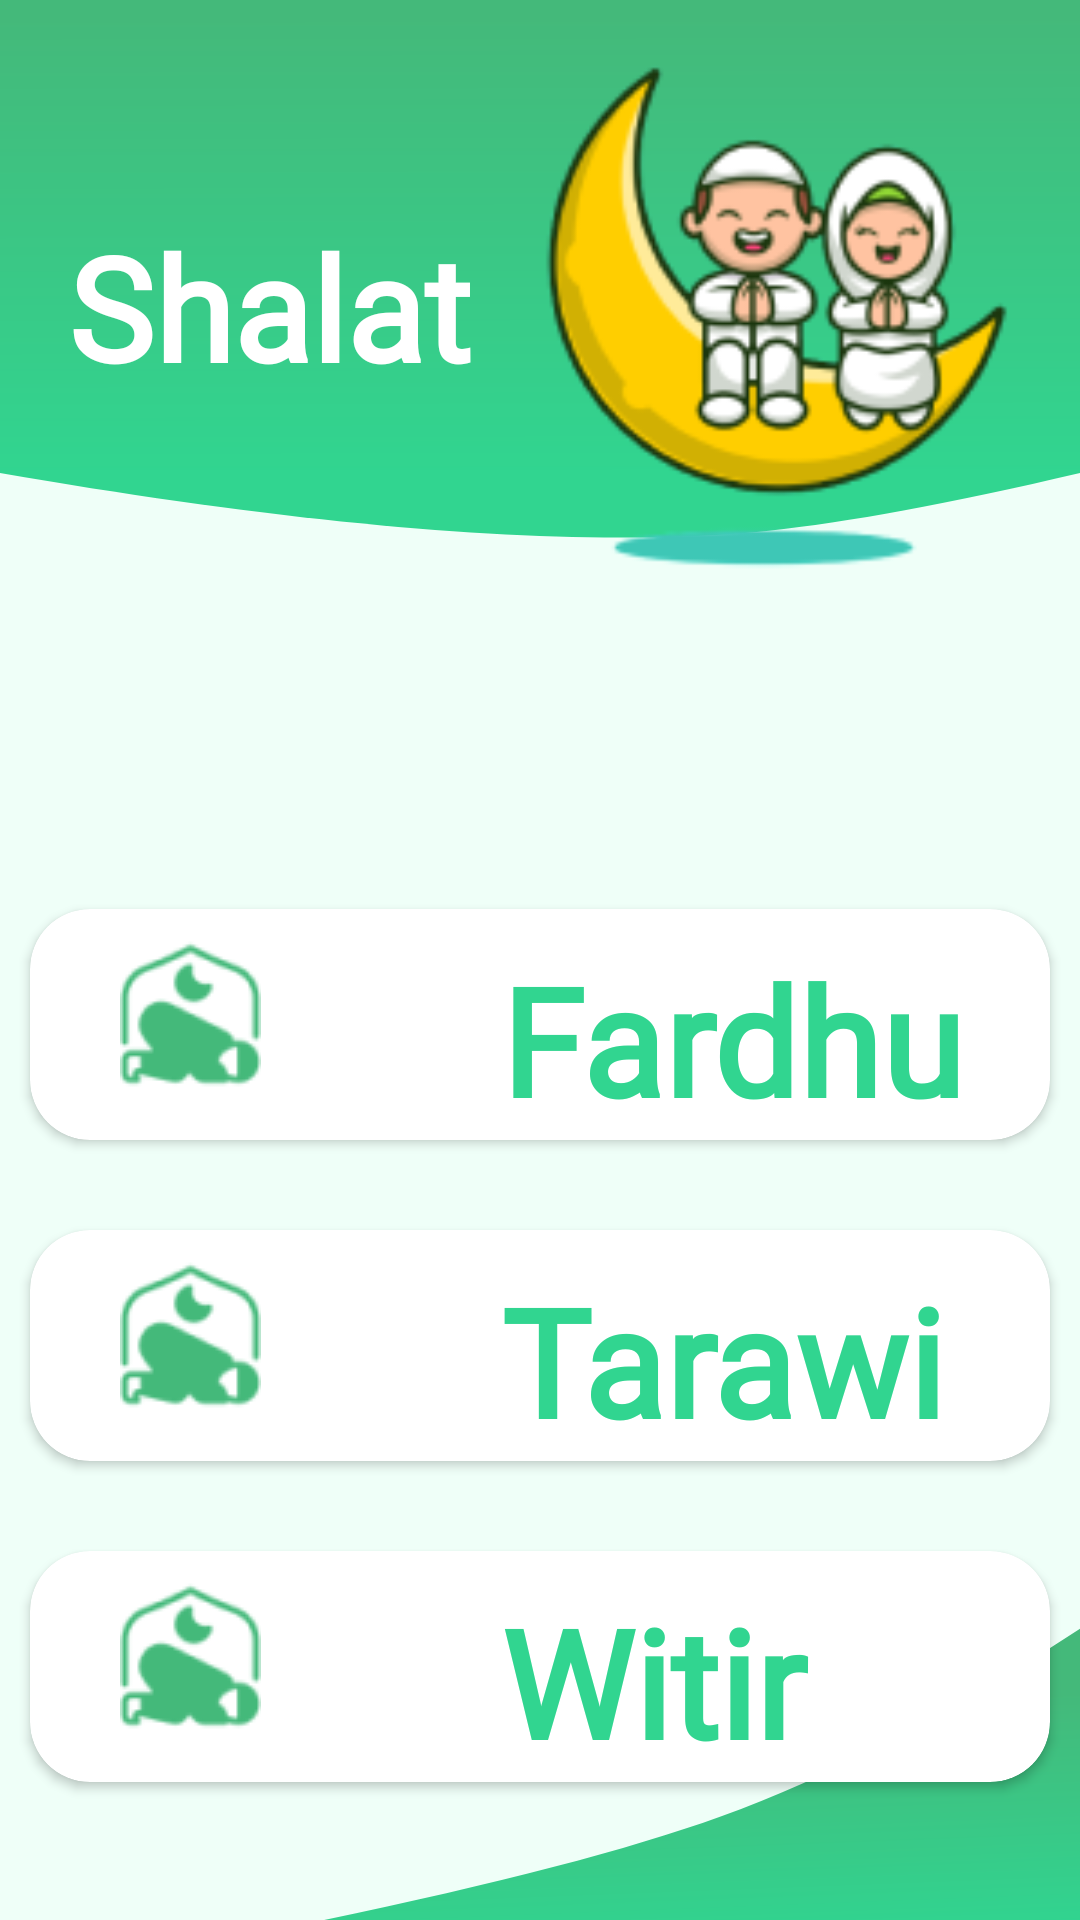

Icon bounding boxes for this 1080w x 1920h phone screenshot, format {"x1": x1, "y1": y1, "x2": x2, "y2": y2}:
shalat: {"x1": 120, "y1": 944, "x2": 261, "y2": 1084}, {"x1": 120, "y1": 1265, "x2": 261, "y2": 1405}, {"x1": 120, "y1": 1586, "x2": 261, "y2": 1726}
